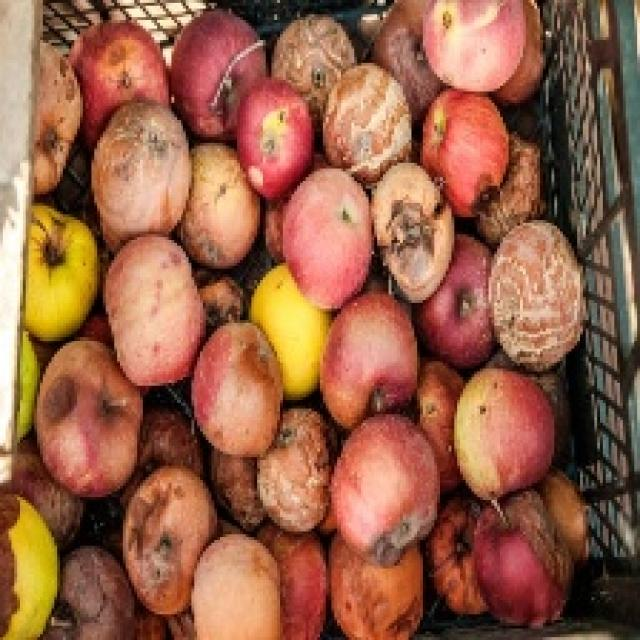rotten_apple: (38, 344, 140, 490), (492, 222, 583, 367), (99, 104, 192, 232), (125, 471, 208, 614), (478, 492, 566, 626), (194, 329, 282, 456), (376, 168, 456, 300), (175, 15, 262, 124), (325, 67, 410, 170), (331, 544, 422, 640), (193, 144, 260, 263), (268, 409, 332, 533), (35, 39, 83, 190), (54, 548, 132, 640), (78, 22, 168, 98), (275, 15, 349, 90), (435, 501, 480, 610)
